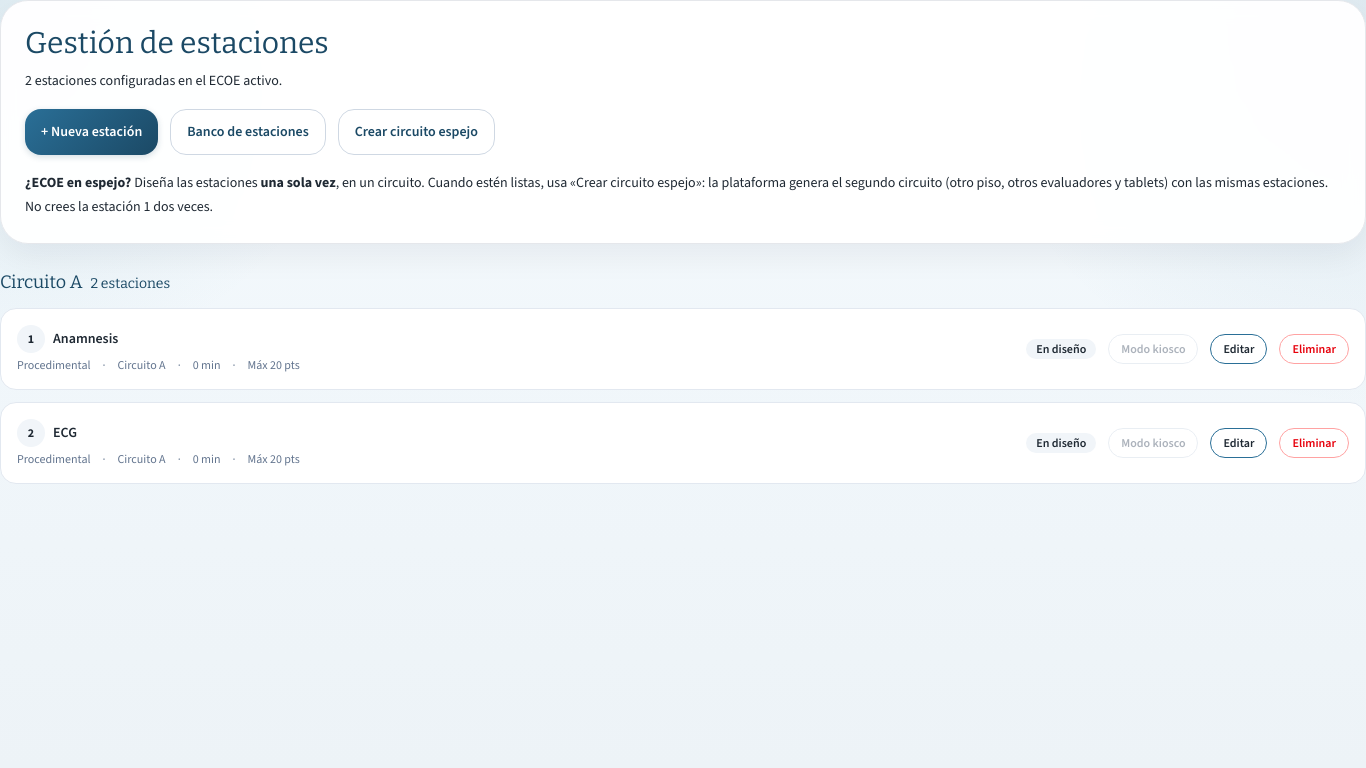
Estaciones — circuitos espejo › explica que se diseña una vez y crea el espejo desde un diálogo
Check: the text "Diseña las estaciones" is shown, box x1=131 y1=173 x2=260 y2=192
Click the button "Crear circuito espejo" at (416, 132), box x1=338 y1=109 x2=495 y2=155
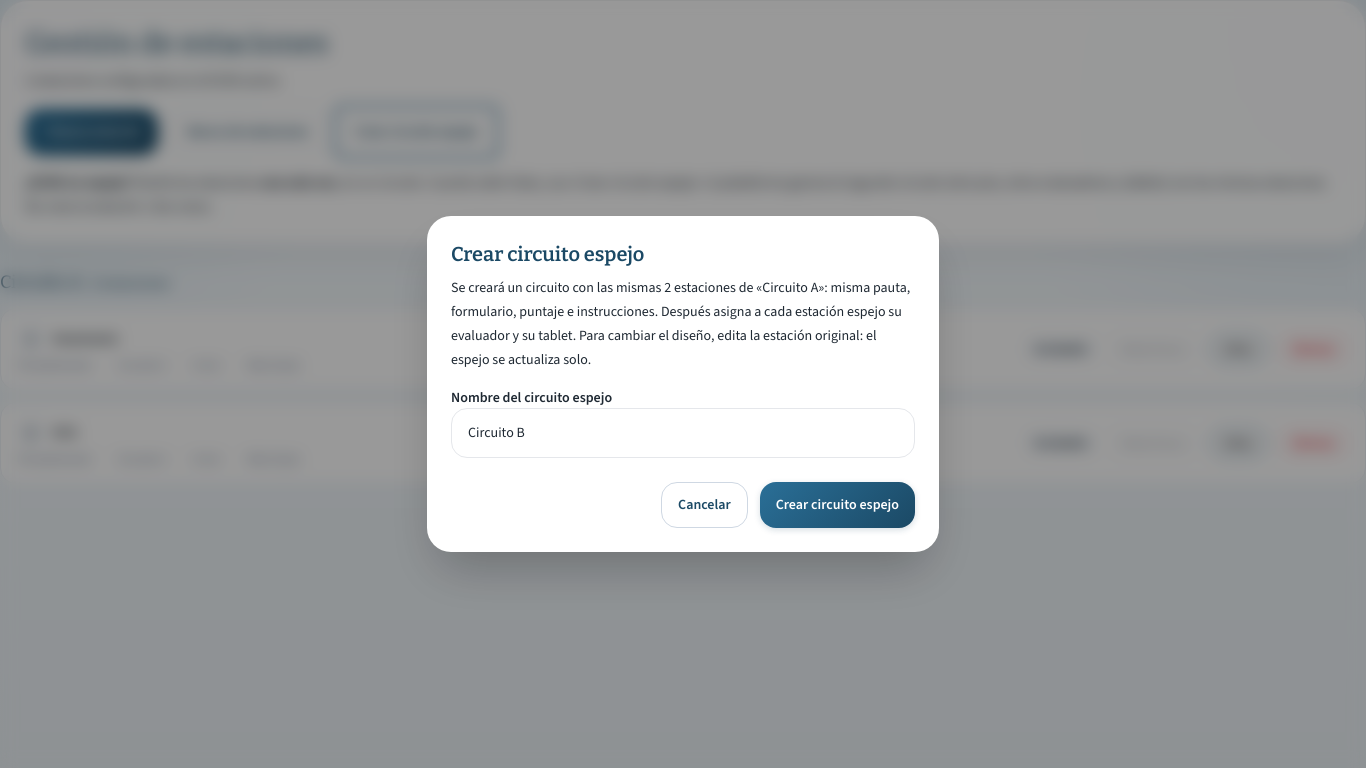
Check: the field showing "Circuito B" is shown, box x1=451 y1=408 x2=915 y2=458
Click the button "Crear circuito espejo" at (837, 505), box x1=760 y1=482 x2=915 y2=528
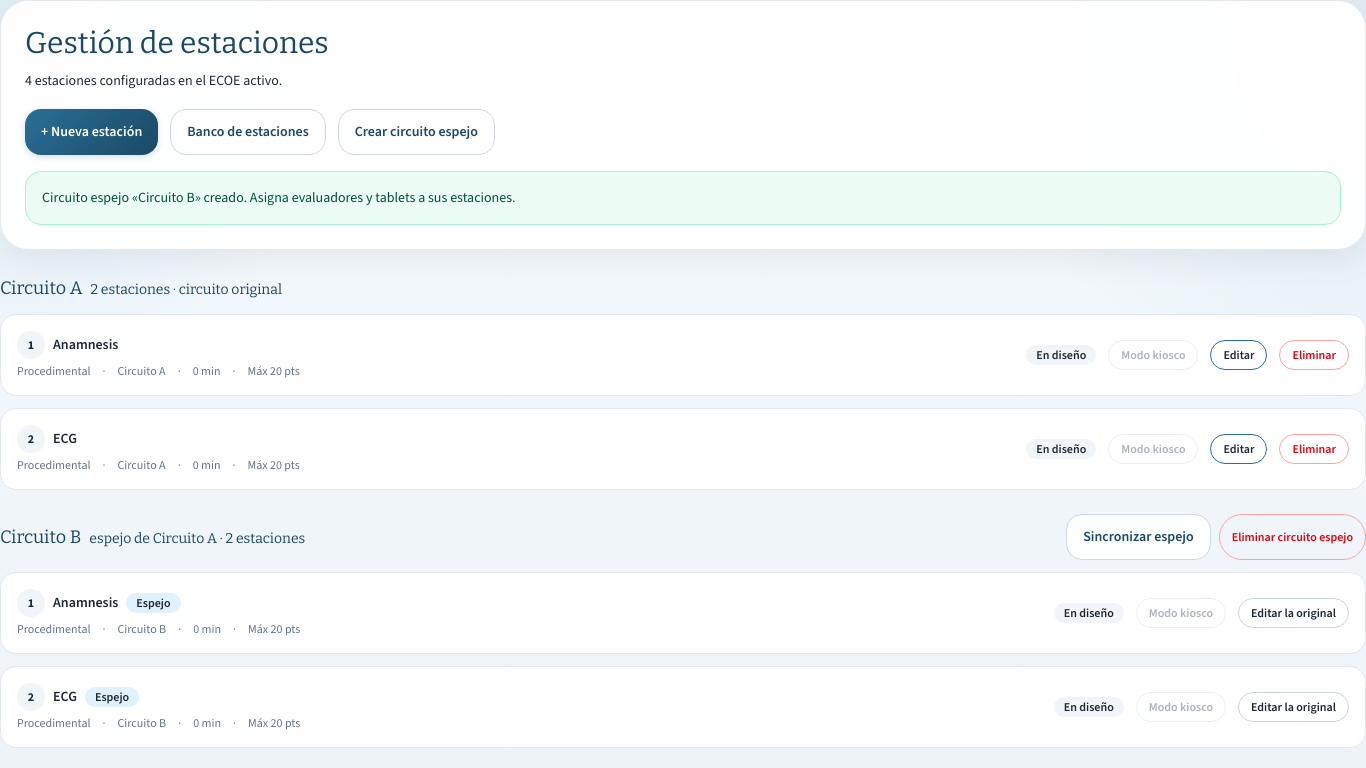
Check: the element with test id "circuit-Circuito B" is shown, box x1=0 y1=514 x2=1365 y2=748
